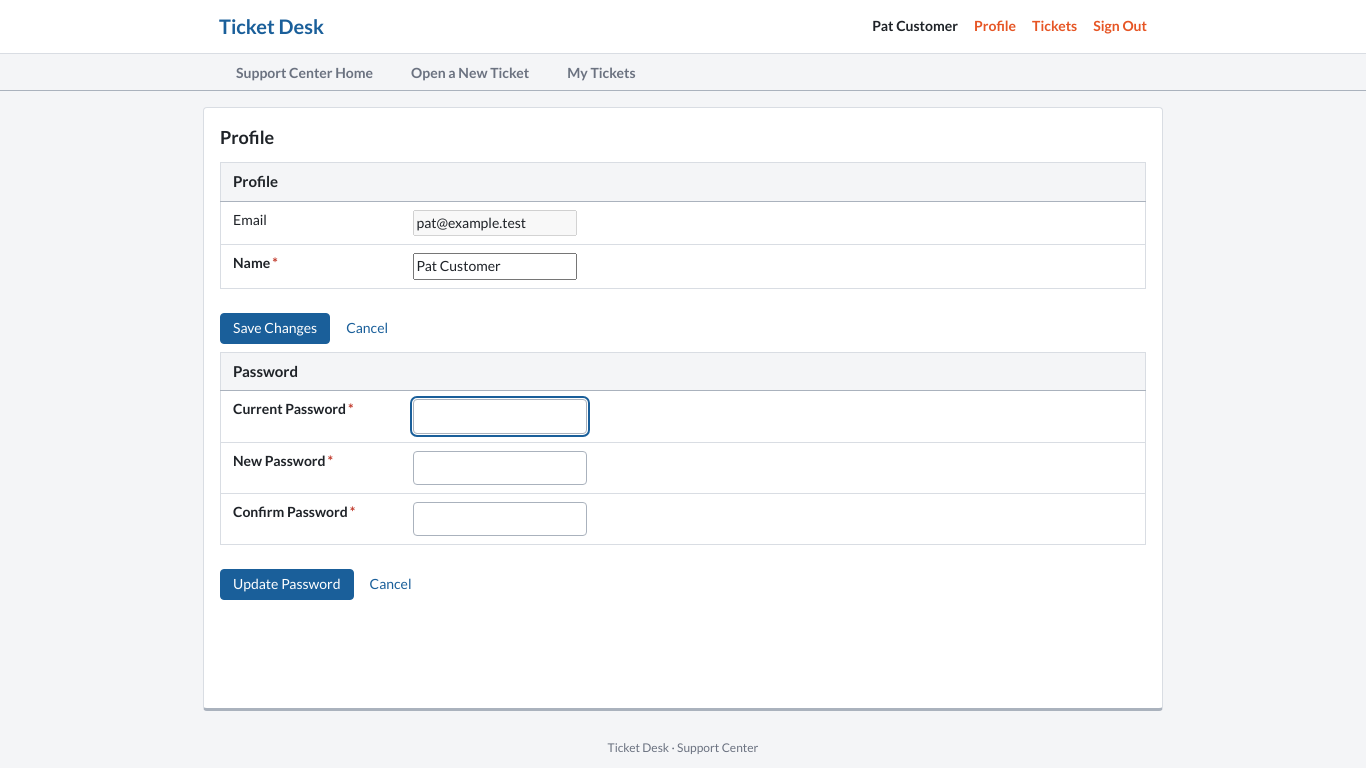
a reset session that sets its password is replaced by a full, persisted session
Type "newpass1" into the password field labelled "New Password*" at (500, 468), box [412,451,586,485]
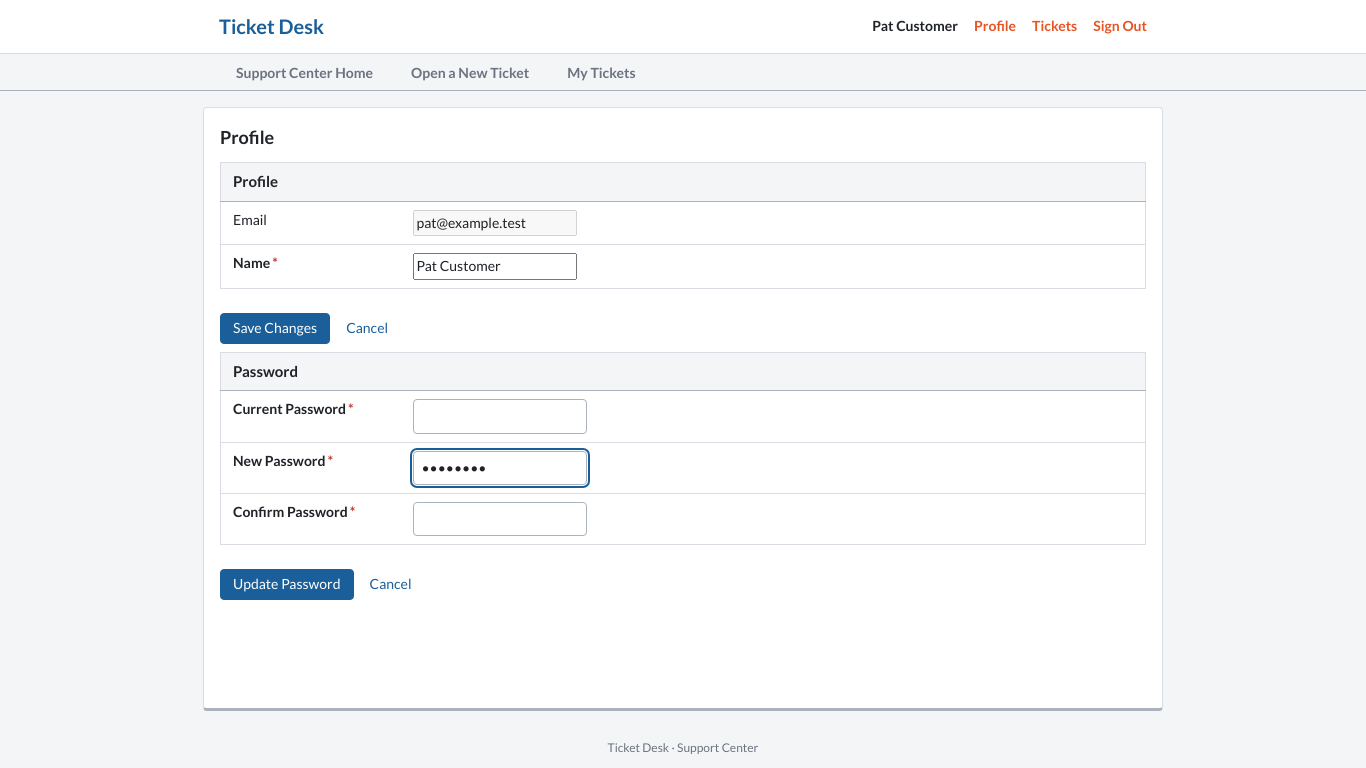
Type "newpass1" into the password field labelled "Confirm Password*" at (500, 519), box [412,502,586,536]
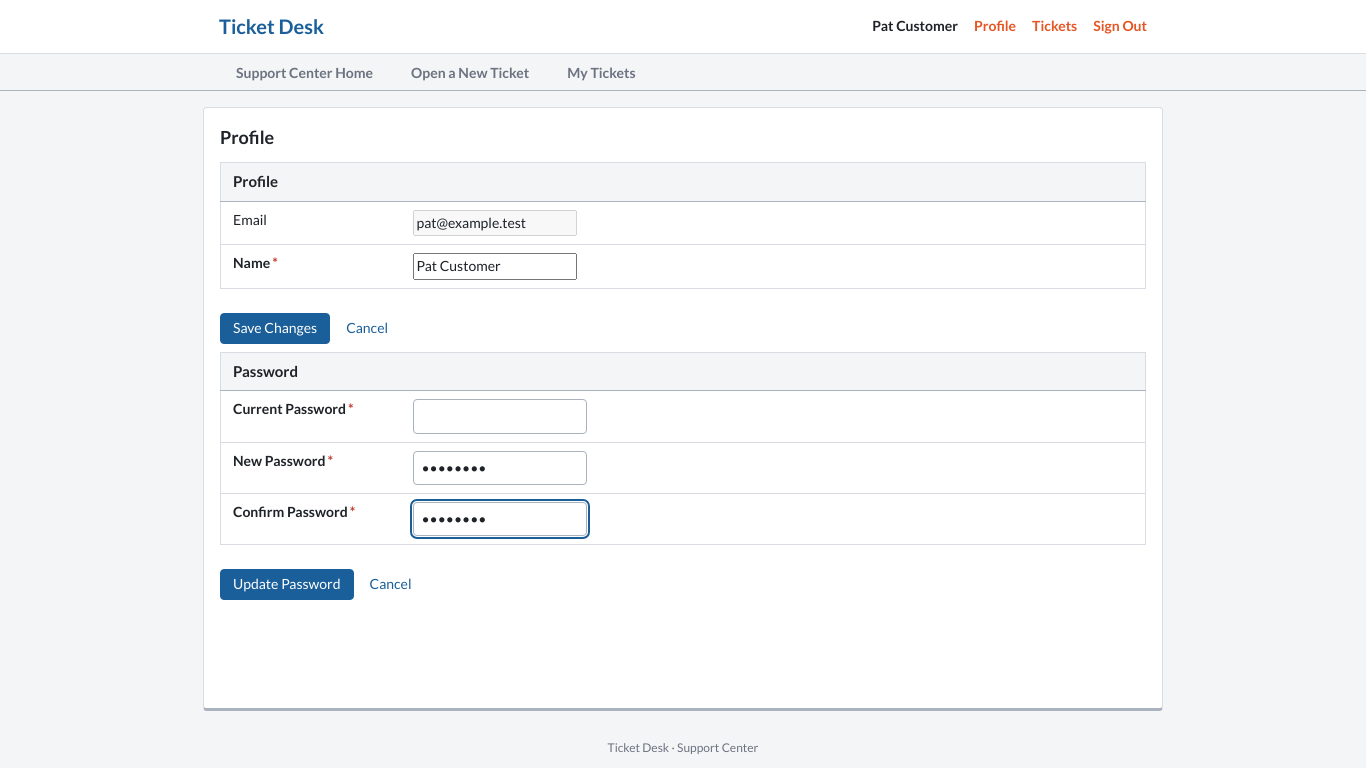
Type "unused" into the password field labelled "Current Password*" at (500, 416), box [412,399,586,434]
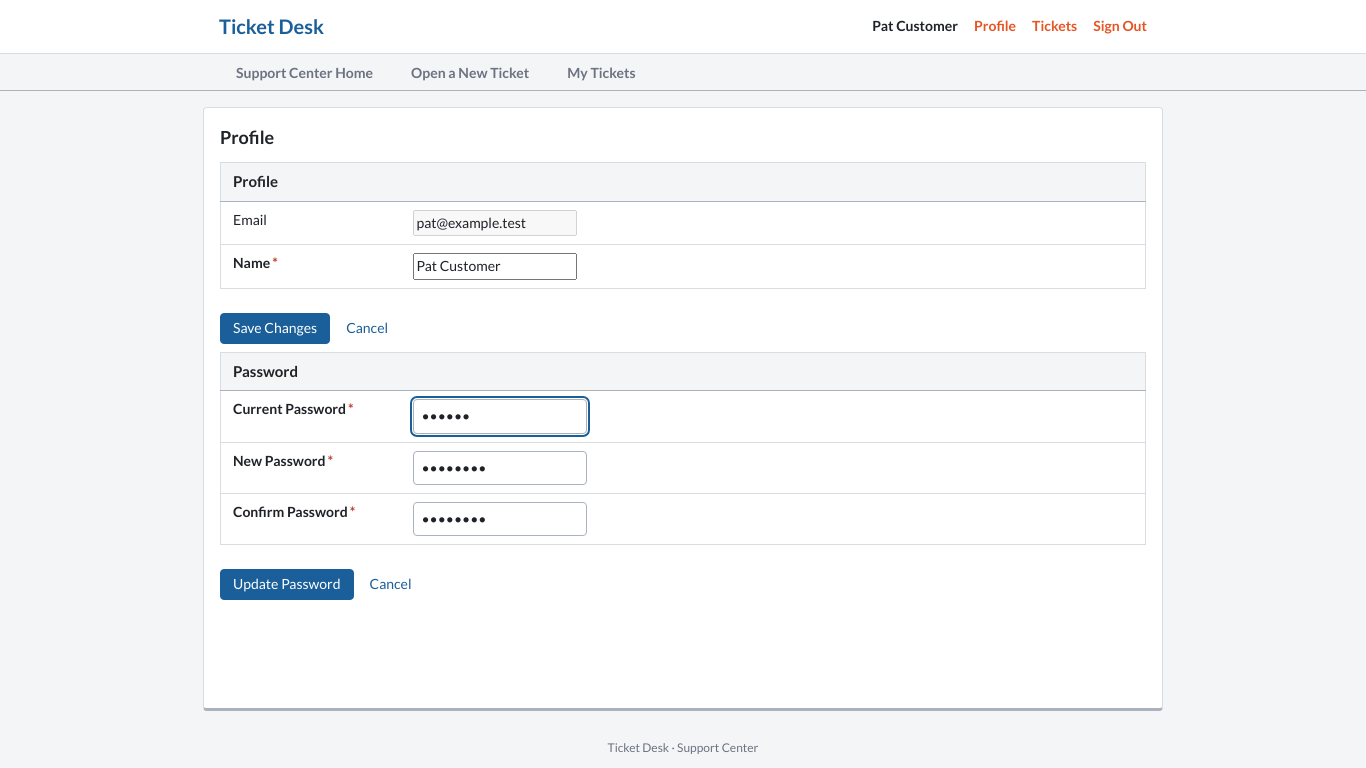
Click the button "Update Password" at (287, 585), box [220,569,354,600]
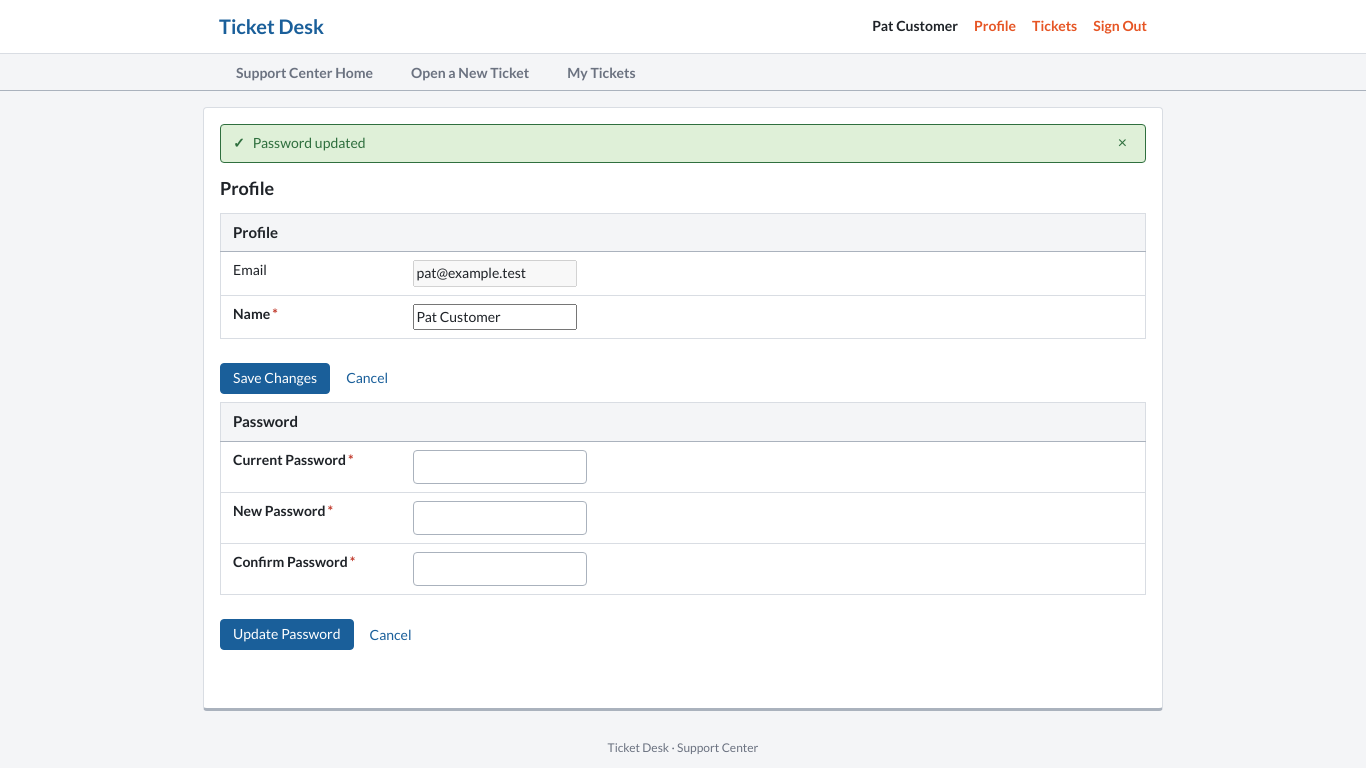
expect the text "Password updated" is shown: met, box [253,134,366,151]
